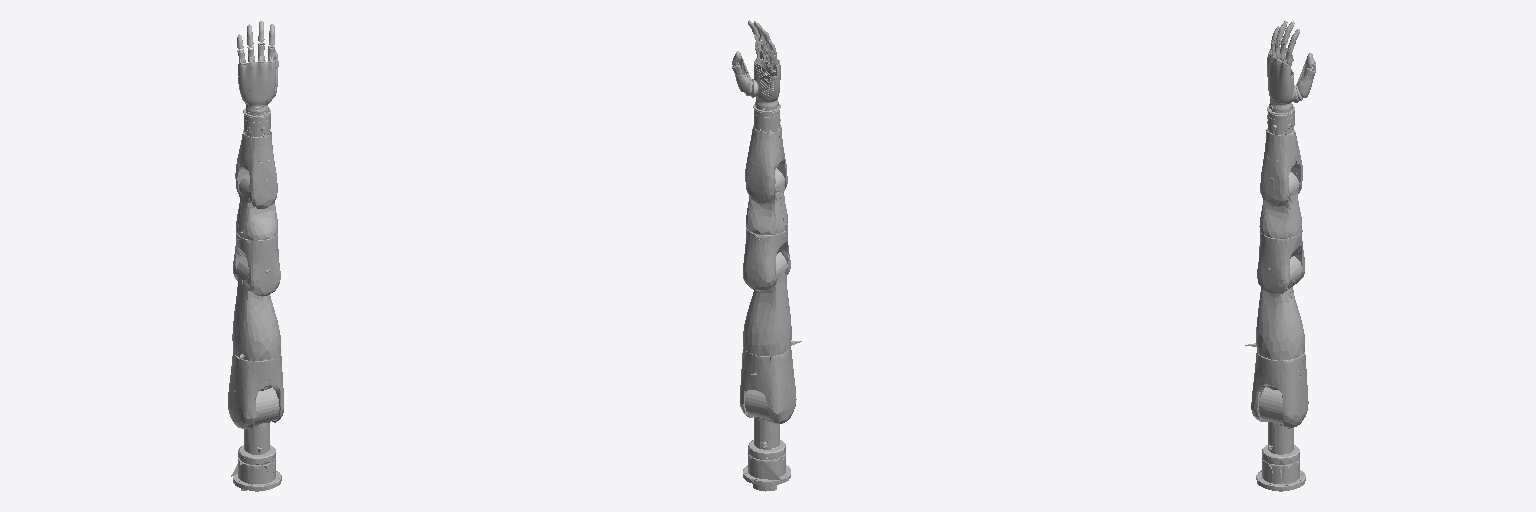
robot.urdf — a2d_description:
<?xml version="1.0" encoding="utf-8"?>
<!-- 这是一个A2D的URDF描述文件 -->
<robot name="a2d_description">
  <!-- 基座link：机器人的底盘 -->
  <!-- 机械臂link：固定在躯干上的机械臂 -->
  <link name="base_link"/>

  <!-- 左臂固定关节：将左臂固定在机器人躯干上 -->
  <joint name="joint_left_arm_mount" type="fixed">
    <origin xyz="0 0.0 0" rpy="0 0 0"/>  <!-- 从link-arm向左偏移2.5cm -->
    <parent link="base_link"/>
    <child link="base_link_l"/>
  </joint>

  <!-- 左臂的所有link和joint定义 -->
  <link
    name="base_link_l">
    <inertial>
      <origin
        xyz="-0.00020641 0.00057488 0.032296"
        rpy="0 0 0" />
      <mass
        value="0.37595" />
      <inertia
        ixx="0.00024335"
        ixy="1.2188E-06"
        ixz="-2.4281E-06"
        iyy="0.00024039"
        iyz="6.6932E-06"
        izz="0.00032195" />
    </inertial>
    <visual>
      <origin
        xyz="0 0 0"
        rpy="0 0 0" />
      <geometry>
        <mesh
          filename="meshes/base_link_l.STL" />
      </geometry>
      <material
        name="">
        <color
          rgba="0.75294 0.75294 0.75294 1" />
      </material>
    </visual>
    <collision>
      <geometry>
        <cylinder radius="0.05200000736048429" length="0.0913499565795064"/>
      </geometry>
      <origin xyz="1.162979919507825e-09 2.3673517507174665e-09 0.030325019266456366" rpy="0.0 -0.0 -0.6283185307179586"/>
    </collision>
  </link>
  <link
    name="Link1_l">
    <inertial>
      <origin
        xyz="-0.0012655 -0.00043778 -0.018388"
        rpy="0 0 0" />
      <mass
        value="0.4936" />
      <inertia
        ixx="0.00075396"
        ixy="6.6935E-06"
        ixz="6.1141E-06"
        iyy="0.00065755"
        iyz="1.2196E-06"
        izz="0.00031848" />
    </inertial>
    <visual>
      <origin
        xyz="0 0 0"
        rpy="0 0 0" />
      <geometry>
        <mesh
          filename="meshes/Link1_l.STL" />
      </geometry>
      <material
        name="">
        <color
          rgba="0.75294 0.75294 0.75294 1" />
      </material>
    </visual>
    <collision>
      <geometry>
        <cylinder radius="0.05559538401924806" length="0.1638999544084072"/>
      </geometry>
      <origin xyz="0.0 0.0 0.0" rpy="0.0 -0.0 0.0"/>
    </collision>
  </link>
  <joint
    name="Joint1_l"
    type="revolute">
    <origin
      xyz="0 0 0.1859"
      rpy="0 0 0" />
    <parent
      link="base_link_l" />
    <child
      link="Link1_l" />
    <axis
      xyz="0 0 1" />
    <limit
      lower="-3.14"
      upper="3.14"
      effort="60"
      velocity="3.14" />
  </joint>
  <link
    name="Link2_l">
    <inertial>
      <origin
        xyz="5.3037E-05 -0.078258 0.0047084"
        rpy="0 0 0" />
      <mass
        value="0.46245" />
      <inertia
        ixx="0.00065719"
        ixy="3.7112E-07"
        ixz="-3.6668E-06"
        iyy="0.00043459"
        iyz="-2.517E-05"
        izz="0.00072571" />
    </inertial>
    <visual>
      <origin
        xyz="0 0 0"
        rpy="0 0 0" />
      <geometry>
        <mesh
          filename="meshes/Link2_l.STL" />
      </geometry>
      <material
        name="">
        <color
          rgba="0.75294 0.75294 0.75294 1" />
      </material>
    </visual>
    <collision>
      <origin rpy="-0.0 0.0 -0.0" xyz="0.0 -0.03777446600000001 -0.034179688"/>
      <geometry>
        <box size="0.078125 0.15545113 0.021484375"/>
      </geometry>
    </collision>
    <collision>
      <origin rpy="-0.0 0.0 -0.0" xyz="0.0 -0.092986956 -0.00048828125"/>
      <geometry>
        <box size="0.0703125 0.08602613 0.07128906"/>
      </geometry>
    </collision>
  </link>
  <joint
    name="Joint2_l"
    type="revolute">
    <origin
      xyz="0 0 0"
      rpy="-1.5708 0 1.5708" />
    <parent
      link="Link1_l" />
    <child
      link="Link2_l" />
    <axis
      xyz="0 0 1" />
    <limit
      lower="-3.14"
      upper="3.14"
      effort="60"
      velocity="3.14" />
  </joint>
  <link
    name="Link3_l">
    <inertial>
      <origin
        xyz="-0.0012032 0.0008714 -0.055265"
        rpy="0 0 0" />
      <mass
        value="0.50026" />
      <inertia
        ixx="0.0013016"
        ixy="3.1401E-06"
        ixz="1.4255E-05"
        iyy="0.001427"
        iyz="2.4361E-05"
        izz="0.00033587" />
    </inertial>
    <visual>
      <origin
        xyz="0 0 0"
        rpy="0 0 0" />
      <geometry>
        <mesh
          filename="meshes/Link3_l.STL" />
      </geometry>
      <material
        name="">
        <color
          rgba="0.75294 0.75294 0.75294 1" />
      </material>
    </visual>
    <collision>
      <geometry>
        <cylinder radius="0.05134501389693651" length="0.21500002965331078"/>
      </geometry>
      <origin xyz="1.8626451537276945e-09 -0.005707027504228184 -0.07249999232590199" rpy="0.0 -0.0 -1.8849555921538759"/>
    </collision>
  </link>
  <joint
    name="Joint3_l"
    type="revolute">
    <origin
      xyz="0 -0.305 0"
      rpy="1.5708 1.5708 0" />
    <parent
      link="Link2_l" />
    <child
      link="Link3_l" />
    <axis
      xyz="0 0 1" />
    <limit
      lower="-3.14"
      upper="3.14"
      effort="60"
      velocity="3.14" />
  </joint>
  <link
    name="Link4_l">
    <inertial>
      <origin
        xyz="3.7035E-05 -0.06248 0.0025377"
        rpy="0 0 0" />
      <mass
        value="0.27473" />
      <inertia
        ixx="0.00029284"
        ixy="4.6615E-07"
        ixz="6.2359E-08"
        iyy="0.00018853"
        iyz="-1.1062E-06"
        izz="0.00031238" />
    </inertial>
    <visual>
      <origin
        xyz="0 0 0"
        rpy="0 0 0" />
      <geometry>
        <mesh
          filename="meshes/Link4_l.STL" />
      </geometry>
      <material
        name="">
        <color
          rgba="0.75294 0.75294 0.75294 1" />
      </material>
    </visual>
    <collision>
      <origin rpy="-0.0 0.0 -0.0" xyz="0.0 -0.030868530000000005 -0.030273438"/>
      <geometry>
        <box size="0.0703125 0.13151169 0.017578125"/>
      </geometry>
    </collision>
    <collision>
      <origin rpy="-0.0 0.0 -0.0" xyz="0.0 -0.07945728 -0.001953125"/>
      <geometry>
        <box size="0.056640625 0.07028388999999999 0.0625"/>
      </geometry>
    </collision>
  </link>
  <joint
    name="Joint4_l"
    type="revolute">
    <origin
      xyz="0 0 0"
      rpy="-1.5708 0 -3.1416" />
    <parent
      link="Link3_l" />
    <child
      link="Link4_l" />
    <axis
      xyz="0 0 1" />
    <limit
      lower="-3.14"
      upper="3.14"
      effort="60"
      velocity="3.14" />
  </joint>
  <link
    name="Link5_l">
    <inertial>
      <origin
        xyz="-7.9404E-07 -0.00023094 -0.024143"
        rpy="0 0 0" />
      <mass
        value="0.25139" />
      <inertia
        ixx="0.00023516"
        ixy="-1.3496E-09"
        ixz="-2.0314E-08"
        iyy="0.00028808"
        iyz="-1.2106E-05"
        izz="0.00013069" />
    </inertial>
    <visual>
      <origin
        xyz="0 0 0"
        rpy="0 0 0" />
      <geometry>
        <mesh
          filename="meshes/Link5_l.STL" />
      </geometry>
      <material
        name="">
        <color
          rgba="0.75294 0.75294 0.75294 1" />
      </material>
    </visual>
     <collision>
      <geometry>
        <cylinder radius="0.04058189219799553" length="0.12419998832046986"/>
      </geometry>
      <origin xyz="-1.8626451568152156e-09 -3.2986506384037606e-05 -0.03359998669475317" rpy="3.141592653589793 -1.2246467991473532e-16 3.141592653589793"/>
    </collision>
  </link>
  <joint
    name="Joint5_l"
    type="revolute">
    <origin
      xyz="0 -0.1975 0"
      rpy="-1.5708 0 3.1416" />
    <parent
      link="Link4_l" />
    <child
      link="Link5_l" />
    <axis
      xyz="0 0 1" />
    <limit
      lower="-3.14"
      upper="3.14"
      effort="30"
      velocity="3.14" />
  </joint>
  <link
    name="Link6_l">
    <inertial>
      <origin
        xyz="1.769E-06 -0.086692 0.0025571"
        rpy="0 0 0" />
      <mass
        value="0.26634" />
      <inertia
        ixx="0.00031434"
        ixy="-2.9254E-09"
        ixz="1.0017E-07"
        iyy="0.00014464"
        iyz="-2.0329E-05"
        izz="0.0003245" />
    </inertial>
    <visual>
      <origin
        xyz="0 0 0"
        rpy="0 0 0" />
      <geometry>
        <mesh
          filename="meshes/Link6_l.STL" />
      </geometry>
      <material
        name="">
        <color
          rgba="0.75294 0.75294 0.75294 1" />
      </material>
    </visual>
    <collision>
      <origin rpy="-0.0 0.0 -0.0" xyz="0.0 -0.035750016999999995 -0.028320312"/>
      <geometry>
        <box size="0.05859375 0.12849998 0.015625"/>
      </geometry>
    </collision>
    <collision>
      <origin rpy="-0.0 0.0 -0.0" xyz="0.0 -0.10310431 -0.0009765625"/>
      <geometry>
        <box size="0.05859375 0.08339137000000002 0.05859375"/>
      </geometry>
    </collision>
  </link>
  <joint
    name="Joint6_l"
    type="revolute">
    <origin
      xyz="0 0 0"
      rpy="-1.5708 0 0" />
    <parent
      link="Link5_l" />
    <child
      link="Link6_l" />
    <axis
      xyz="0 0 1" />
    <limit
      lower="-3.14"
      upper="3.14"
      effort="30"
      velocity="3.14" />
  </joint>
  <link
    name="Link7_l">
    <inertial>
      <origin
        xyz="-7.5113E-05 -0.00024521 -0.016705"
        rpy="0 0 0" />
      <mass
        value="0.06158" />
      <inertia
        ixx="1.8407E-05"
        ixy="3.4796E-08"
        ixz="-3.2424E-09"
        iyy="1.818E-05"
        iyz="1.1327E-07"
        izz="2.8547E-05" />
    </inertial>
    <visual>
      <origin
        xyz="0 0 0"
        rpy="0 0 0" />
      <geometry>
        <mesh
          filename="meshes/Link7_l.STL" />
      </geometry>
      <material
        name="">
        <color
          rgba="0.75294 0.75294 0.75294 1" />
      </material>
    </visual>
    <collision>
      <geometry>
        <cylinder radius="0.030803805454578115" length="0.04599999970197749"/>
      </geometry>
      <origin xyz="-0.0022255658813748946 -0.0005957682043378973 -0.023000000238418226" rpy="3.141592653589793 -1.2246467991473532e-16 3.141592653589793"/>
    </collision>
  </link>
  <joint
    name="Joint7_l"
    type="revolute">
    <origin
      xyz="0 -0.1805 0"
      rpy="1.5708 0 0" />
    <parent
      link="Link6_l" />
    <child
      link="Link7_l" />
    <axis
      xyz="0 0 1" />
    <limit
      lower="-3.14"
      upper="3.14"
      effort="30"
      velocity="3.14" />
  </joint>
  <link
    name="Link_hand_l">
    <inertial>
      <origin
        xyz="0.0036691 0.0082806 0.059221"
        rpy="0 0 0" />
      <mass
        value="0.070229" />
      <inertia
        ixx="5.5259E-05"
        ixy="-8.7205E-06"
        ixz="-7.9434E-06"
        iyy="6.2355E-05"
        iyz="-1.345E-05"
        izz="4.4874E-05" />
    </inertial>
    <visual>
      <origin
        xyz="0 0 0"
        rpy="0 0 0" />
      <geometry>
        <mesh
          filename="meshes/Link_hand_l.STL" />
      </geometry>
      <material
        name="">
        <color
          rgba="0.75294 0.75294 0.75294 1" />
      </material>
    </visual>
    <collision>
              <origin rpy="-0.0 0.0 -0.0" xyz="0.0 0.0 0.0"/>
              <geometry>
                <box size="0.2 0.08 0.2"/>
              </geometry>
    </collision>
    <collision>
              <origin rpy="-0.0 0.0 0.5236" xyz="0.0 0.0 0.0"/>
              <geometry>
                <box size="0.2 0.08 0.2"/>
              </geometry>
    </collision>
  </link>
  <joint
    name="Joint_hand_l"
    type="fixed">
    <origin
      xyz="0 0 0"
      rpy="0 0 -0.5236" /> <!-- 30度 -->
    <parent
      link="Link7_l" />
    <child
      link="Link_hand_l" />
    <axis
      xyz="0 0 0" />
  </joint>

  <link name="ee_link"/>
  <joint
    name="Joint_hand_damp"
    type="fixed">
    <origin
      xyz="0 0 0.08"
      rpy="0 0 0" /> <!-- 30度 -->
    <parent
      link="Link_hand_l" />
    <child
      link="ee_link" />
    <axis
      xyz="0 0 0" />
  </joint>
  
</robot>

--- Render facts (derived) ---
3 views of the same robot in one strip: view 1: azimuth 30°, elevation 25°; view 2: azimuth 150°, elevation 25°; view 3: azimuth 330°, elevation 25° (orthographic).
Robot: a2d_description — 11 links, 10 joints (7 revolute, 3 fixed); root link base_link; default pose: every joint at zero.
Links seen in each view (by area): view 1: Link3_l, Link2_l, Link_hand_l, Link6_l, Link4_l, Link1_l, Link5_l, base_link_l; view 2: Link3_l, Link2_l, Link_hand_l, Link6_l, Link4_l, Link1_l, Link5_l, base_link_l; view 3: Link3_l, Link2_l, Link_hand_l, Link6_l, Link4_l, Link1_l, Link5_l, base_link_l, Link7_l.
Link boxes in pixels (<box>): Link3_l: <box>232,258,280,360</box>; Link2_l: <box>228,353,283,428</box>; Link_hand_l: <box>237,21,278,117</box>; Link6_l: <box>235,130,277,208</box>; Link4_l: <box>233,233,280,296</box>; Link1_l: <box>238,387,279,464</box>; Link5_l: <box>236,173,277,240</box>; base_link_l: <box>231,458,281,491</box>; Link3_l: <box>743,252,791,355</box>; Link2_l: <box>740,341,801,423</box>; Link_hand_l: <box>732,20,780,112</box>; Link6_l: <box>745,125,787,204</box>; Link4_l: <box>743,228,790,291</box>; Link1_l: <box>745,390,785,459</box>; Link5_l: <box>746,168,787,234</box>; base_link_l: <box>743,452,790,491</box>; Link3_l: <box>1256,256,1304,360</box>; Link2_l: <box>1245,343,1308,428</box>; Link_hand_l: <box>1267,21,1315,114</box>; Link6_l: <box>1260,128,1302,207</box>; Link4_l: <box>1257,230,1304,294</box>; Link1_l: <box>1259,387,1299,464</box>; Link5_l: <box>1259,172,1301,238</box>; base_link_l: <box>1256,458,1305,491</box>; Link7_l: <box>1267,111,1294,134</box>.
Bounding box of the posed robot: 0.1353 × 0.1072 × 1.09 m (x, y, z).
Meshes: 9 distinct files referenced, 9 mesh visuals loaded (9 binary STL).
